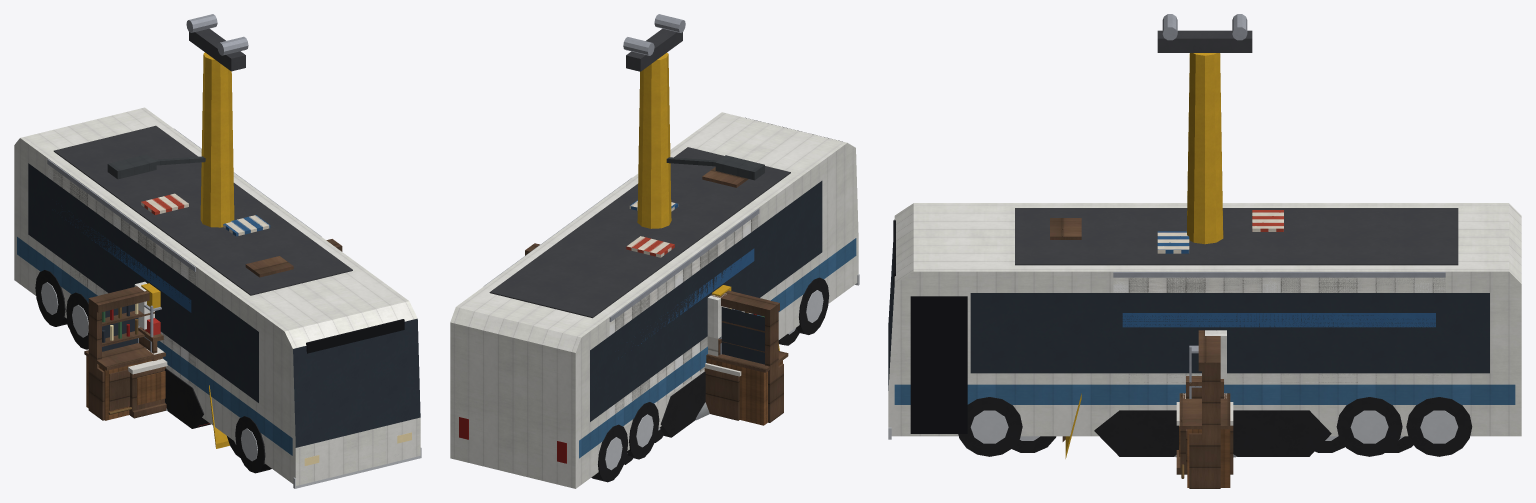
The model's file is hollis-pass-props.glb.
The picture shows the model from 3 angles, left to right: view 1: azimuth 30°, elevation 25°; view 2: azimuth 150°, elevation 25°; view 3: azimuth 270°, elevation 25°; orthographic projection. The views are drawn at different scales.
Visible parts, largest first — view 1: coach_body, coach_roof, coach_glass, coach_trim, pylon_pole, back-bar_cabinet, truck_box, coach_wheels, truck_trim, pylon_arm, buffet_body, garage-snowcat_tracks (+7 smaller); view 2: coach_body, coach_roof, coach_glass, pylon_pole, coach_trim, truck_box, coach_wheels, back-bar_cabinet, back-bar_mirror, truck_trim, pylon_arm, garage-snowcat_tracks (+6 smaller); view 3: coach_body, coach_glass, coach_roof, coach_trim, garage-snowcat_tracks, truck_trim, pylon_pole, coach_wheels, truck_box, back-bar_cabinet, coach_hubs, pylon_arm (+3 smaller).
Part boxes in pixels (<box>): coach_body: <box>14,107,420,485</box>; coach_roof: <box>53,125,352,295</box>; coach_glass: <box>28,163,258,402</box>; coach_trim: <box>17,237,421,488</box>; pylon_pole: <box>200,52,234,227</box>; back-bar_cabinet: <box>88,239,342,420</box>; truck_box: <box>48,165,195,387</box>; coach_wheels: <box>35,270,271,473</box>; truck_trim: <box>47,128,321,312</box>; pylon_arm: <box>186,14,248,71</box>; buffet_body: <box>129,366,166,418</box>; garage-snowcat_tracks: <box>165,368,210,428</box>; coach_body: <box>450,112,858,488</box>; coach_roof: <box>489,147,790,318</box>; coach_glass: <box>590,181,822,421</box>; pylon_pole: <box>637,53,671,228</box>; coach_trim: <box>459,117,859,463</box>; truck_box: <box>609,214,758,427</box>; coach_wheels: <box>591,277,829,482</box>; back-bar_cabinet: <box>525,243,783,422</box>; back-bar_mirror: <box>721,307,764,364</box>; truck_trim: <box>483,178,759,345</box>; pylon_arm: <box>623,14,685,71</box>; garage-snowcat_tracks: <box>659,371,705,437</box>; coach_body: <box>888,203,1521,436</box>; coach_glass: <box>970,293,1489,373</box>; coach_roof: <box>1015,208,1458,265</box>; coach_trim: <box>888,220,1515,439</box>; garage-snowcat_tracks: <box>1094,410,1331,456</box>; truck_trim: <box>1113,272,1445,327</box>; pylon_pole: <box>1186,53,1223,244</box>; coach_wheels: <box>958,397,1472,456</box>; truck_box: <box>1113,277,1445,382</box>; back-bar_cabinet: <box>1189,330,1220,488</box>; coach_hubs: <box>970,410,1458,443</box>; pylon_arm: <box>1157,14,1252,52</box>.
Bounding box in the file's own units: 5 × 7.23 × 10.01.
44 materials, 44 textured.
